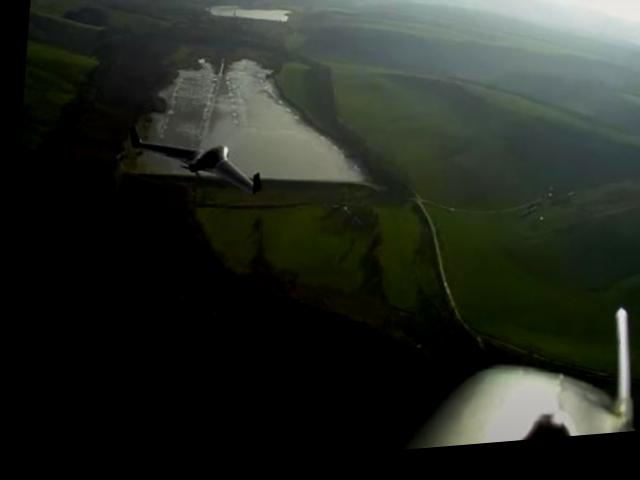iha: (113, 117, 264, 206)
